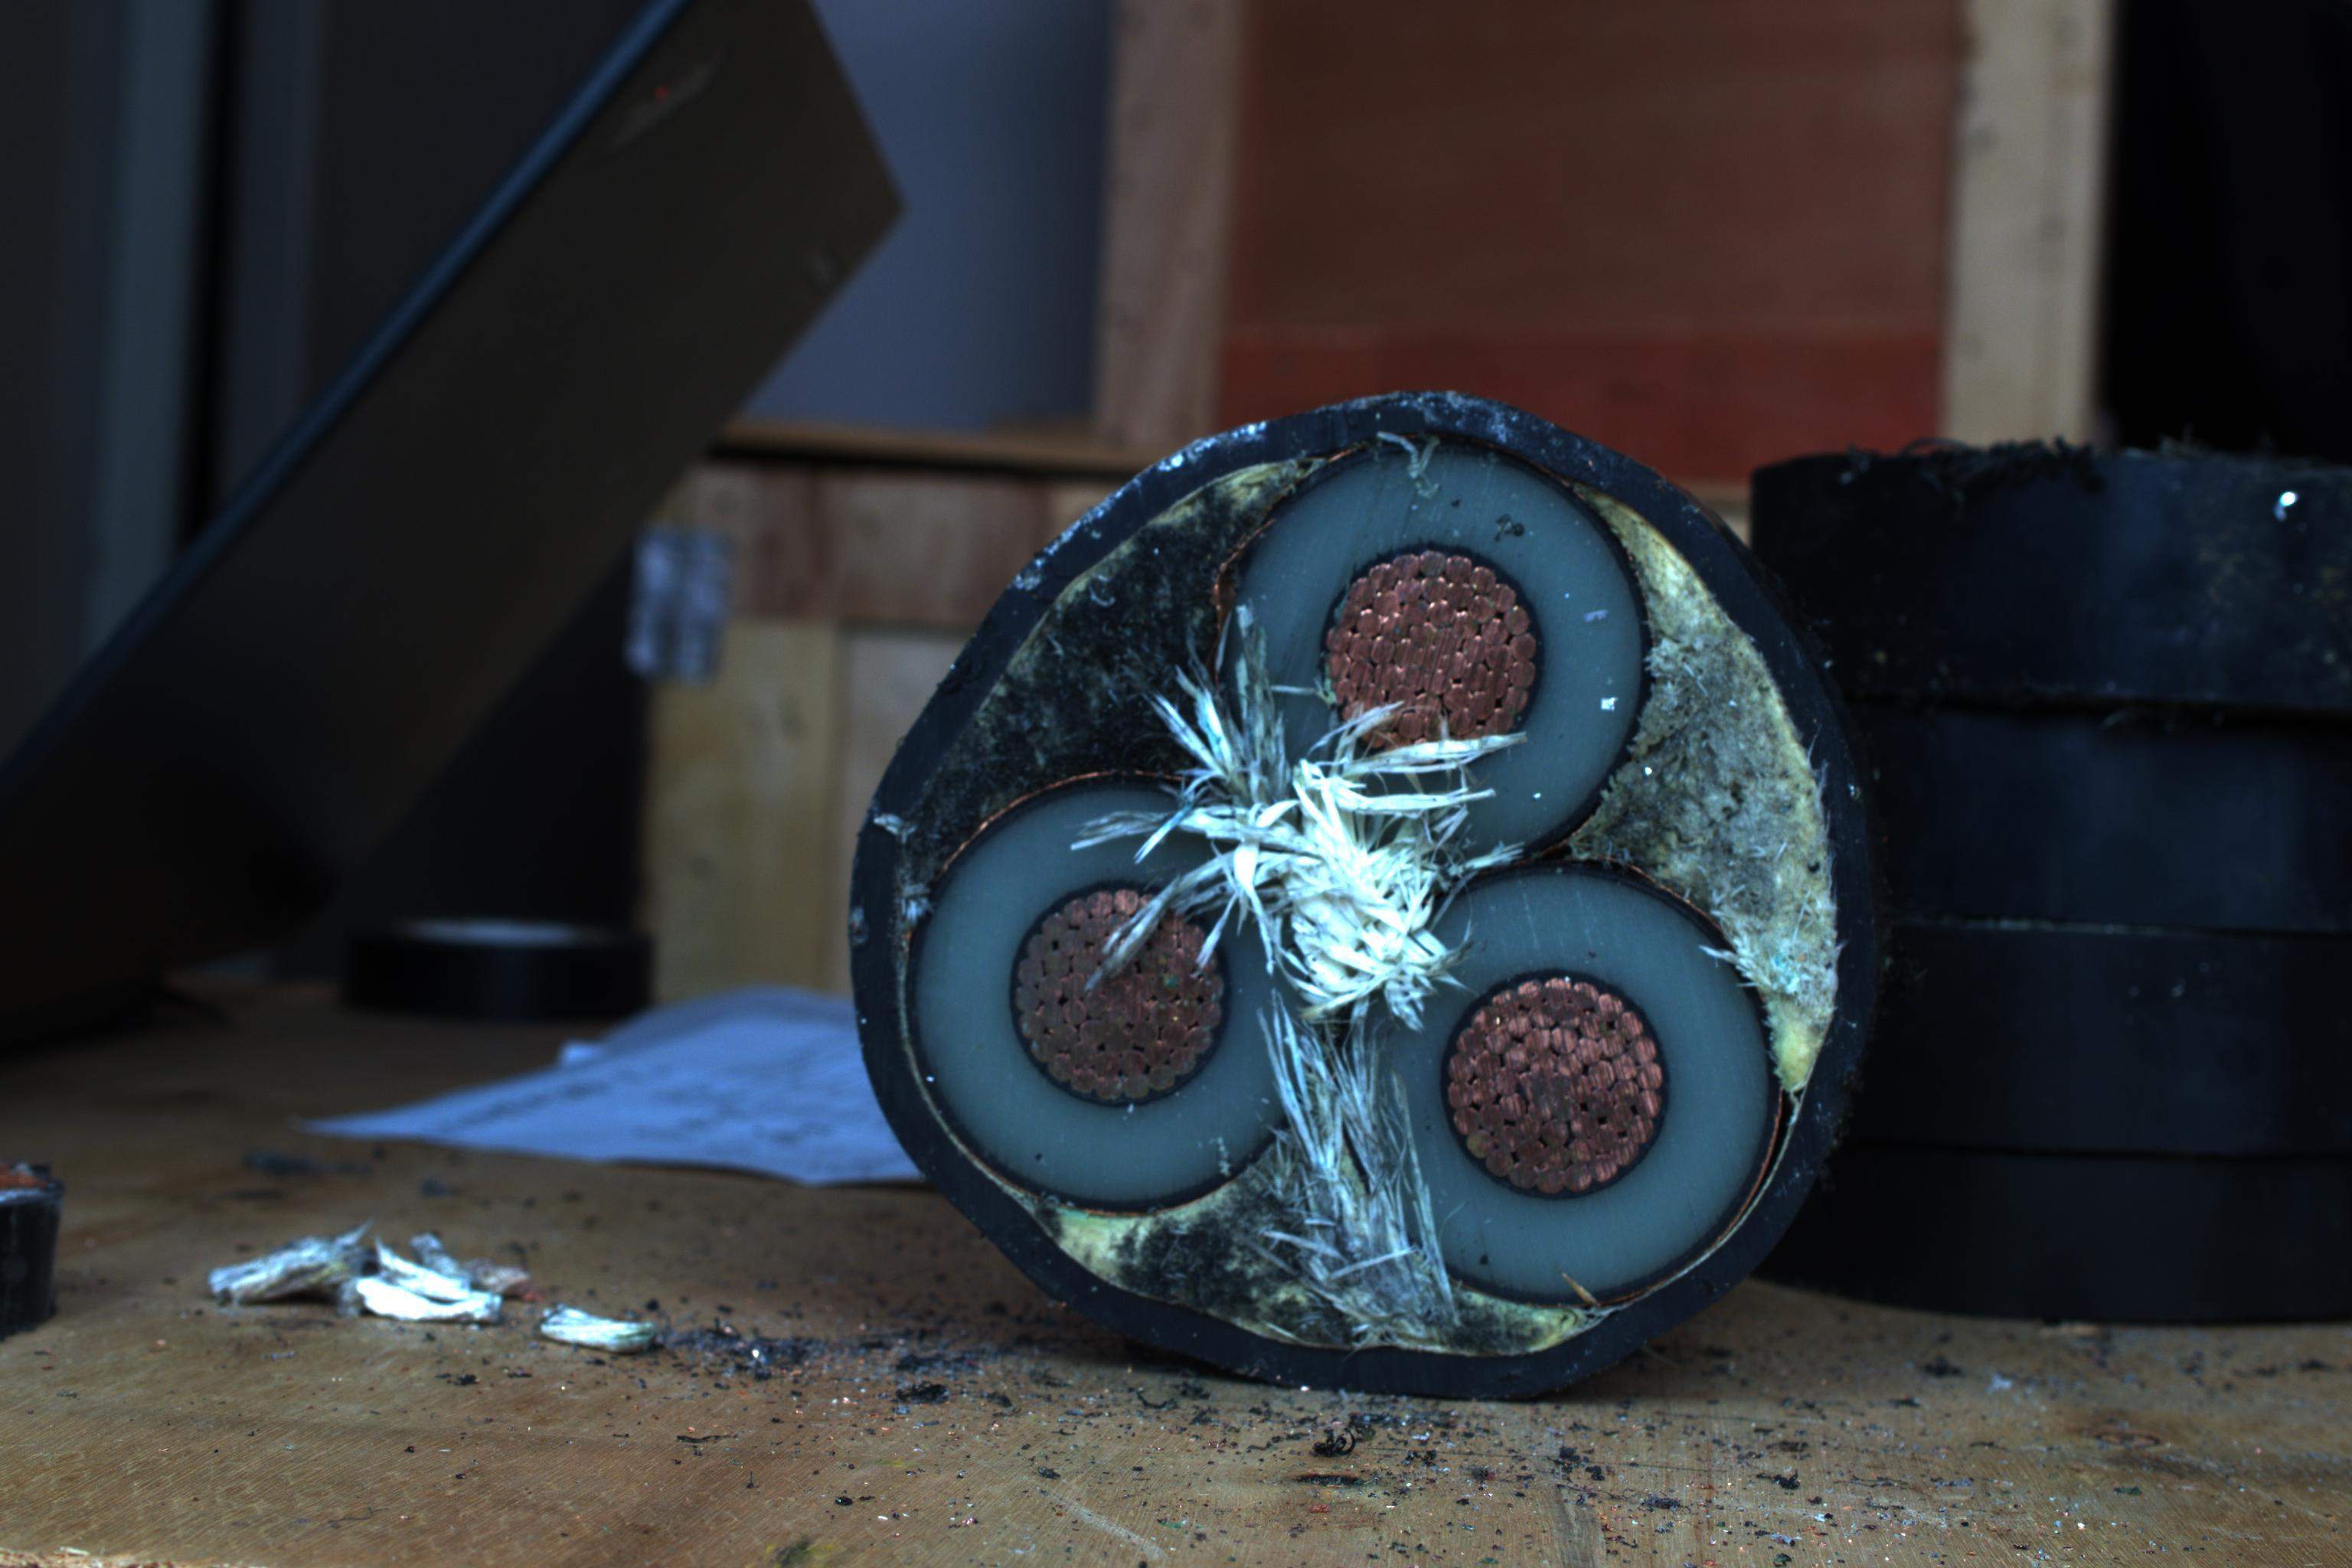ZA_YJV_26_35kV_3x400: (822, 383, 1872, 1388)
